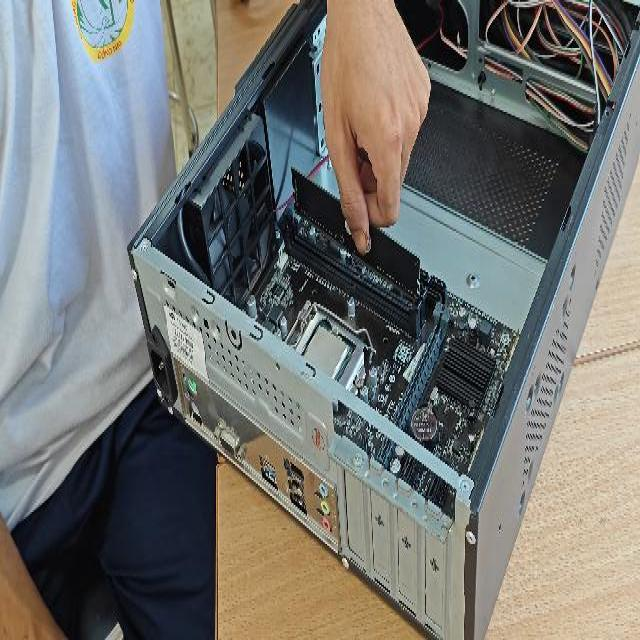CPU: (295, 324, 349, 380)
Mainboard: (224, 214, 519, 515)
RAM: (290, 164, 422, 295)
